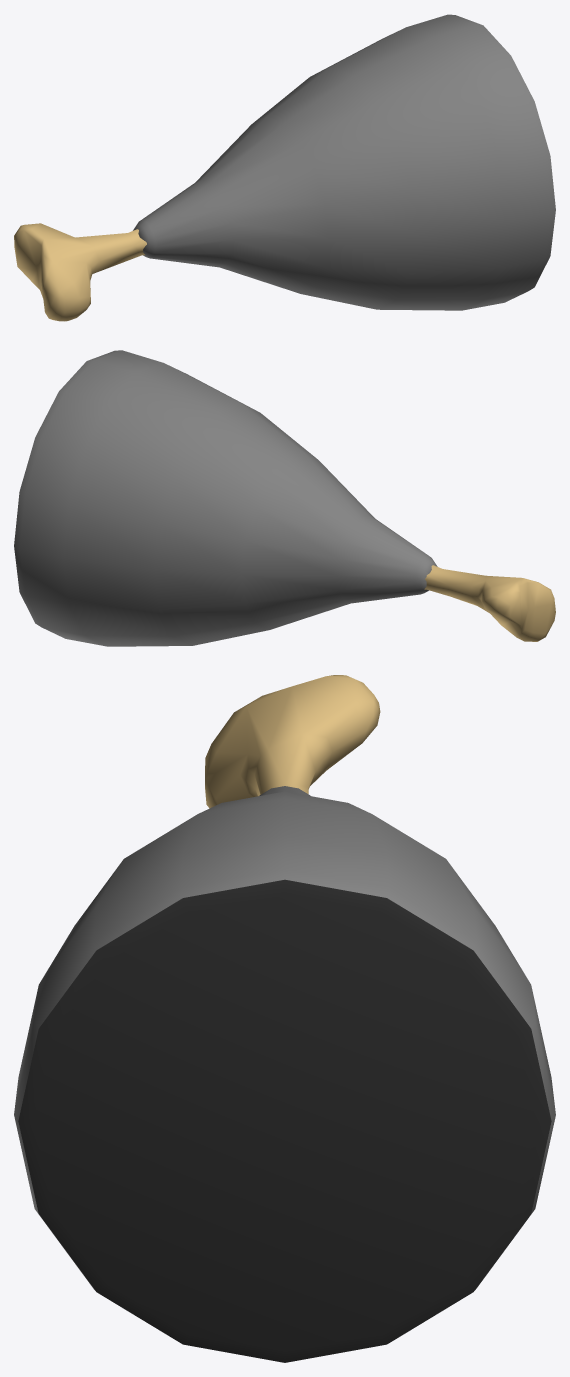
Rendered from thigh.fbx.
The picture shows the model from 3 angles, top to bottom: view 1: azimuth 30°, elevation 25°; view 2: azimuth 150°, elevation 25°; view 3: azimuth 270°, elevation 25°; orthographic projection. The views are drawn at different scales.
Visible parts, largest first — view 1: Line001, Line002; view 2: Line001, Line002; view 3: Line001, Line002.
Part boxes in pixels (x1,y1,x2,y2): Line001: (133,14,555,310); Line002: (14,223,146,321); Line001: (14,350,437,646); Line002: (424,565,555,641); Line001: (14,786,555,1362); Line002: (205,675,380,808).
Size of the model in its own units: 166 by 92.83 by 92.83.
